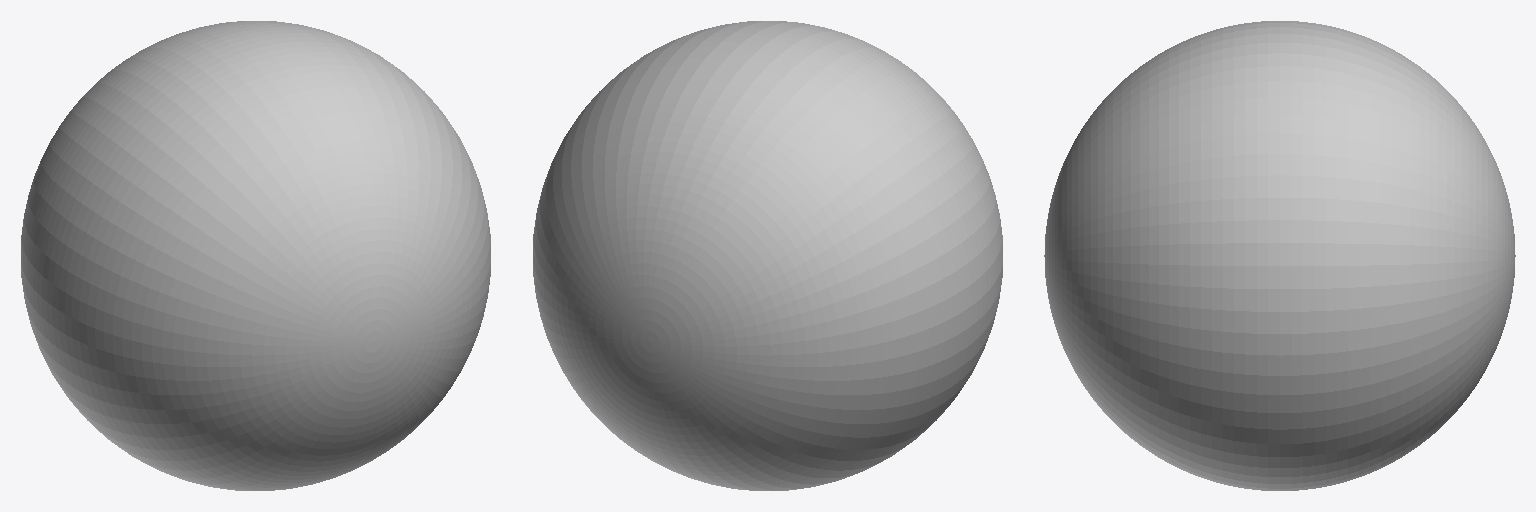
File: msphere3.obj
3 views of the same model, side by side, from view 1: azimuth 30°, elevation 25°; view 2: azimuth 150°, elevation 25°; view 3: azimuth 270°, elevation 25° (orthographic).
Visible parts, largest first — view 1: Plane; view 2: Plane; view 3: Plane.
Part boxes in pixels (x1,y1,x2,y2): Plane: (21,21,490,490); Plane: (533,21,1002,490); Plane: (1044,21,1515,490).
Size of the model in its own units: 4.29 by 4.29 by 4.29.